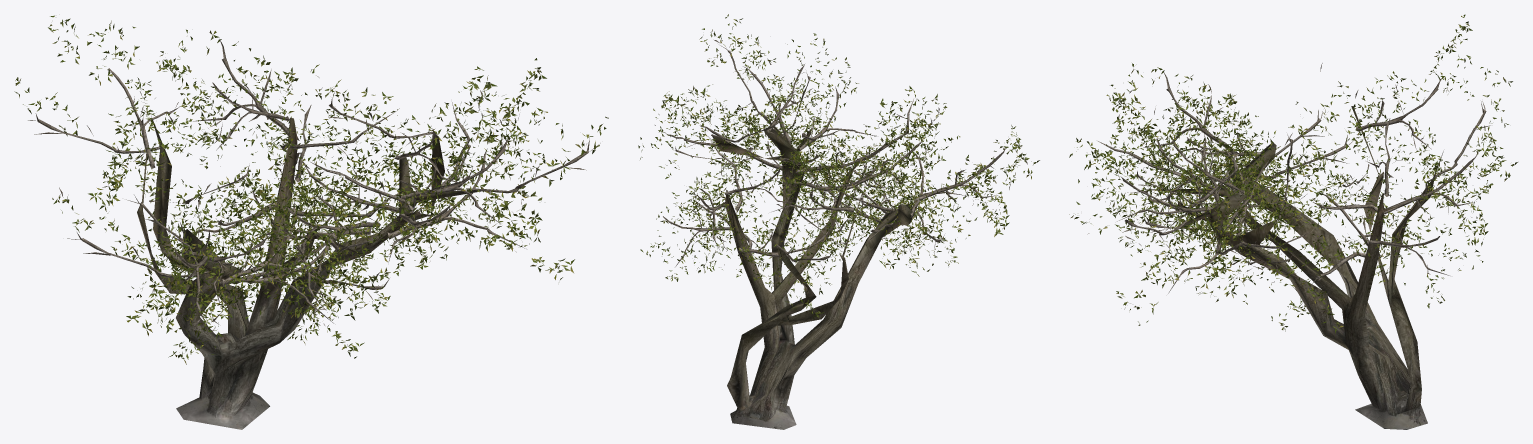
File: island_tree_02.glb
3 views of the same model, side by side, from view 1: azimuth 30°, elevation 25°; view 2: azimuth 150°, elevation 25°; view 3: azimuth 270°, elevation 25° (orthographic). The views are drawn at different scales.
Parts seen in each view (by area): view 1: island_tree_02_LOD0; view 2: island_tree_02_LOD0; view 3: island_tree_02_LOD0.
Boxes of the visible parts, x1,y1,x2,y2 form: island_tree_02_LOD0: (14,15,608,429); island_tree_02_LOD0: (638,14,1039,429); island_tree_02_LOD0: (1069,14,1517,429).
Size of the model in its own units: 3.87 by 3.4 by 4.03.
Materials: 3 (3 with a texture image).
